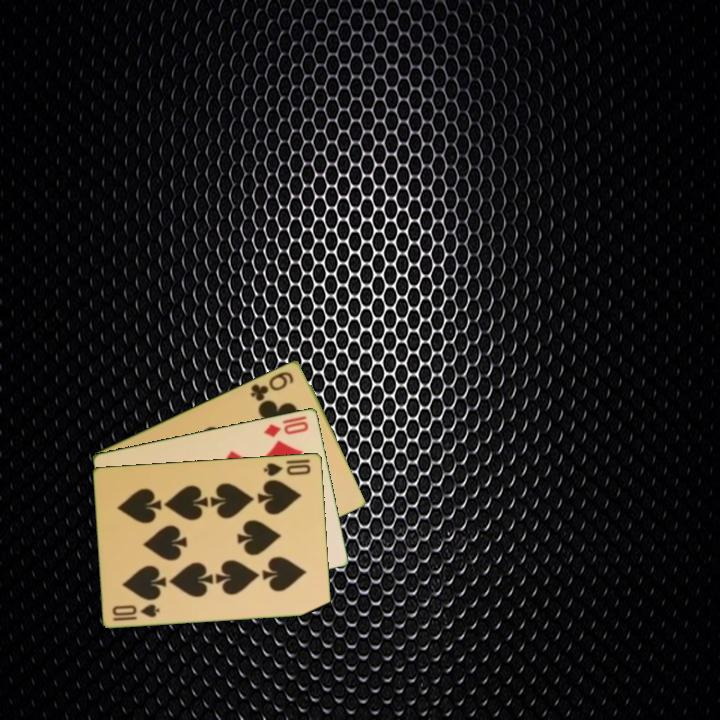10d: (260, 412, 312, 440)
10s: (109, 600, 163, 623), (260, 459, 314, 478)
6c: (247, 367, 297, 404)
